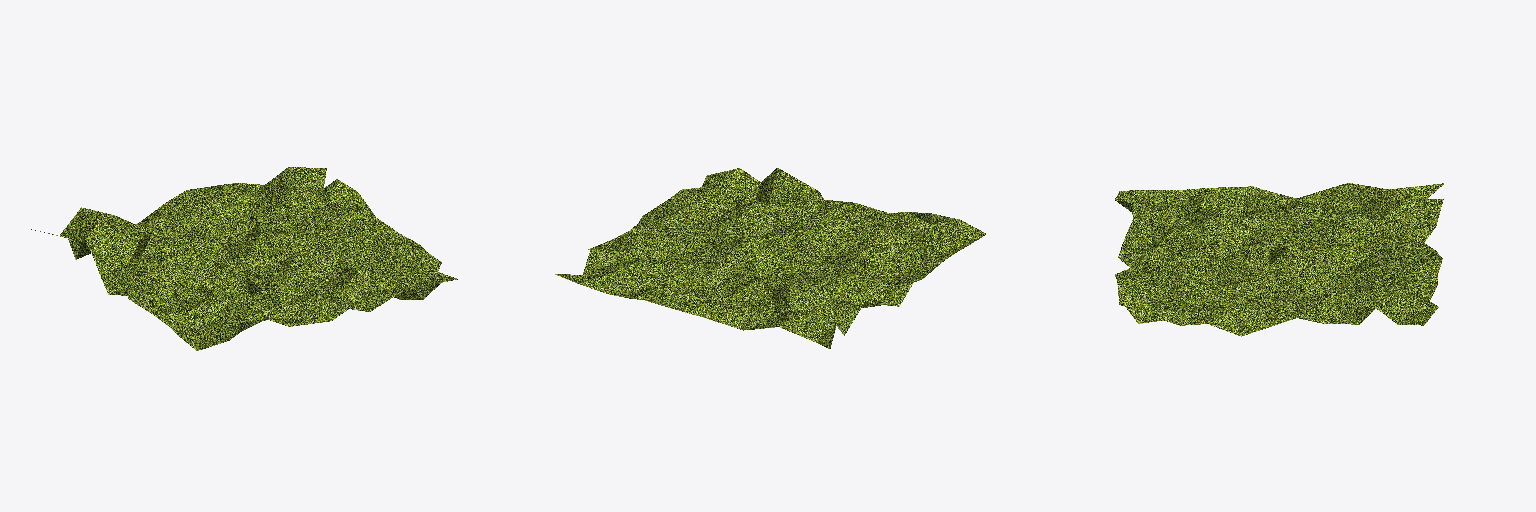
The picture shows the model from 3 angles: view 1: azimuth 30°, elevation 25°; view 2: azimuth 150°, elevation 25°; view 3: azimuth 270°, elevation 25°; orthographic projection.
Visible parts, largest first — view 1: Plane; view 2: Plane; view 3: Plane.
Part boxes in pixels (x1,y1,x2,y2): Plane: (31, 167, 457, 350); Plane: (555, 168, 985, 348); Plane: (1115, 183, 1444, 336).
Size of the model in its own units: 95.88 by 9.67 by 94.71.
Materials: 1 (1 with a texture image).